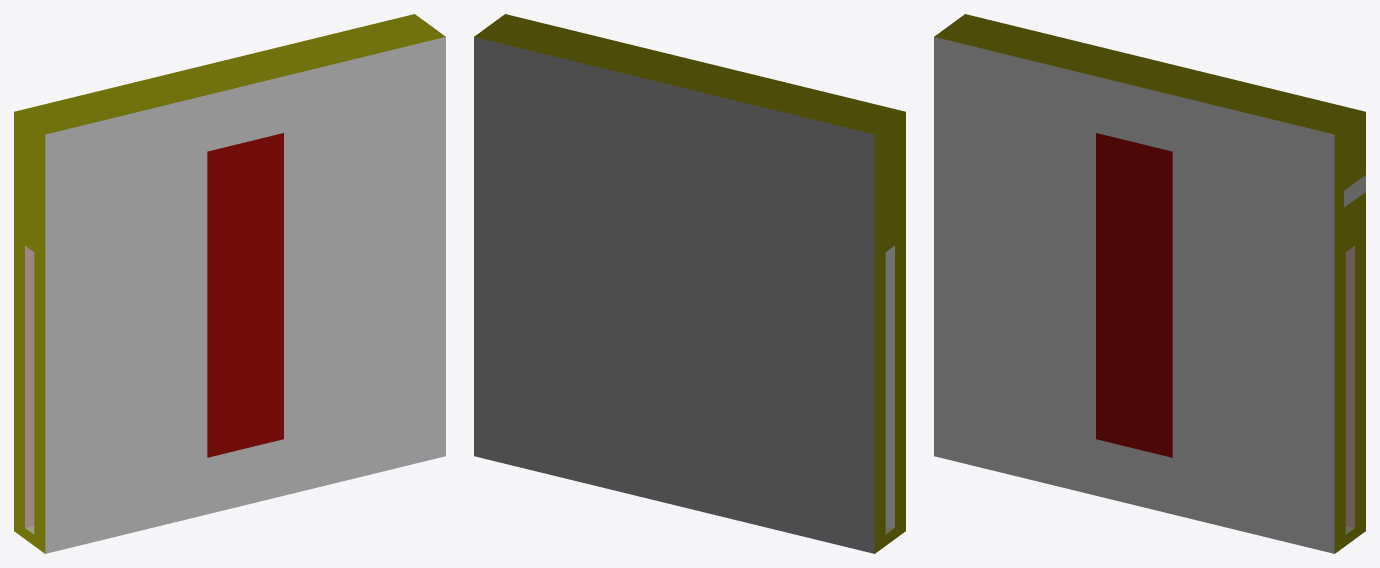
The model's file is idf.obj.
The picture shows the model from 3 angles, left to right: view 1: azimuth 30°, elevation 25°; view 2: azimuth 150°, elevation 25°; view 3: azimuth 330°, elevation 25°; orthographic projection.
Bounding box in the file's own units: 22.61 × 22.61 × 3.77.
